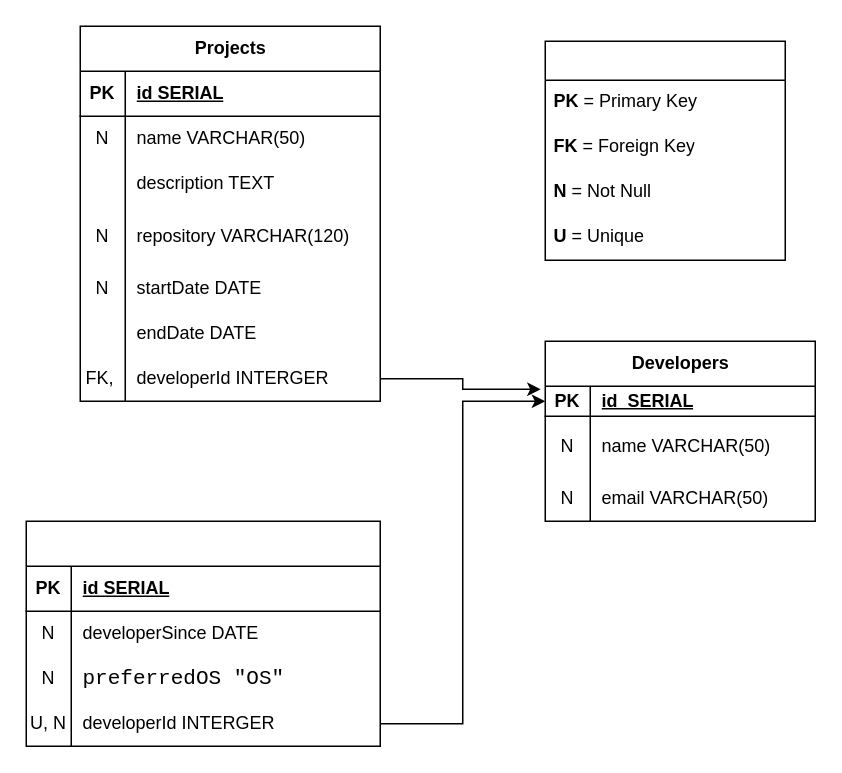
This 842x773 diagram has some shape labels left out. Each missing label, with the box of its shape:
DeveloperInfos: (25, 520, 380, 746)
Legenda: (544, 40, 785, 260)
